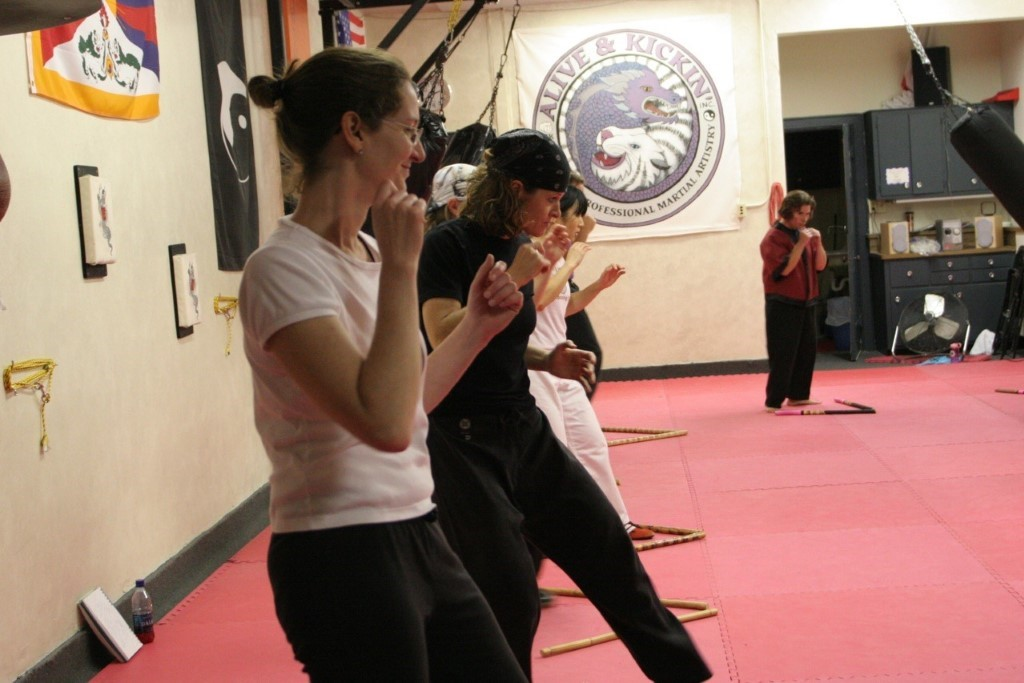baston_e: (552, 610, 703, 657), (539, 584, 697, 609), (636, 531, 701, 554), (608, 430, 680, 447), (636, 522, 689, 535), (777, 408, 869, 415), (601, 425, 668, 433), (837, 397, 865, 408), (997, 388, 1021, 393)
baston_v: (706, 604, 724, 618), (537, 645, 554, 658), (698, 598, 710, 612), (695, 529, 708, 541), (681, 427, 690, 437), (774, 408, 782, 416), (869, 407, 878, 414), (993, 385, 1000, 393)
